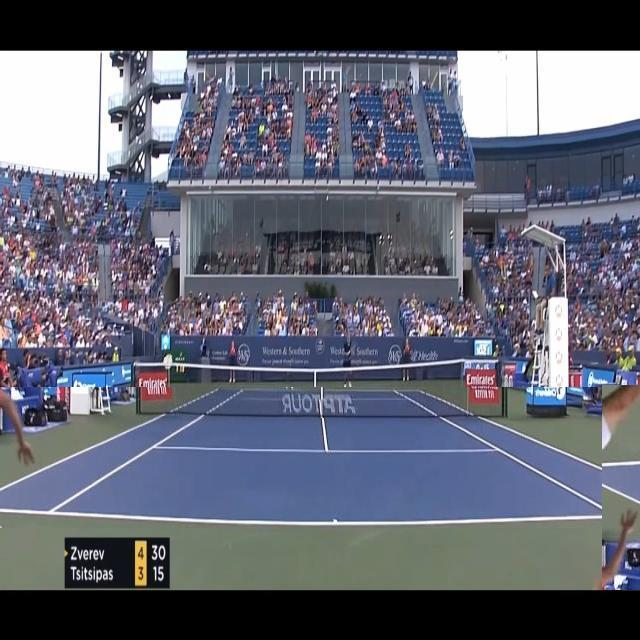court: (0, 387, 639, 528)
net: (132, 357, 504, 418)
player: (602, 385, 640, 590)
